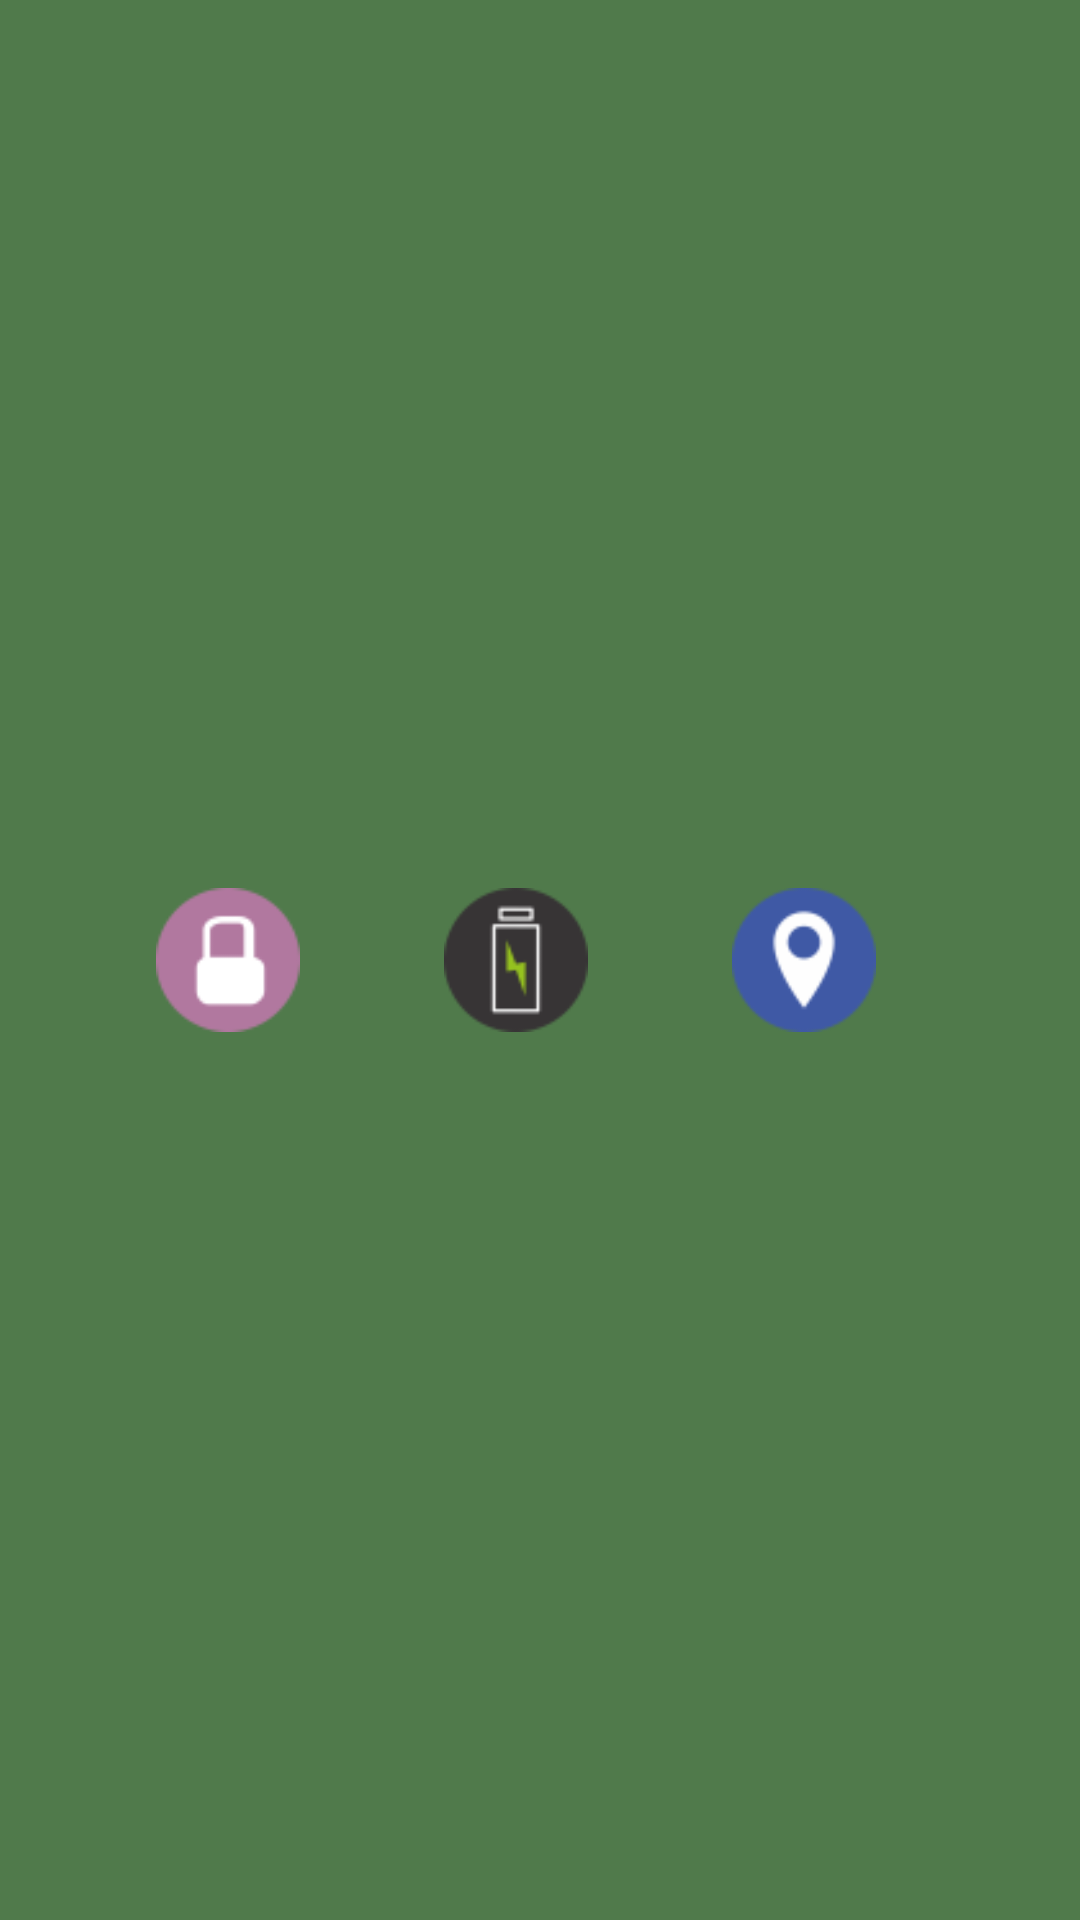

Named icons in this screenshot (1080px x 1920px) and their bounding boxes, bbox=(x1, y1, x2, y2):
bateria: bbox=(444, 888, 588, 1032)
mapa: bbox=(732, 888, 876, 1032)
trava: bbox=(156, 888, 300, 1032)
